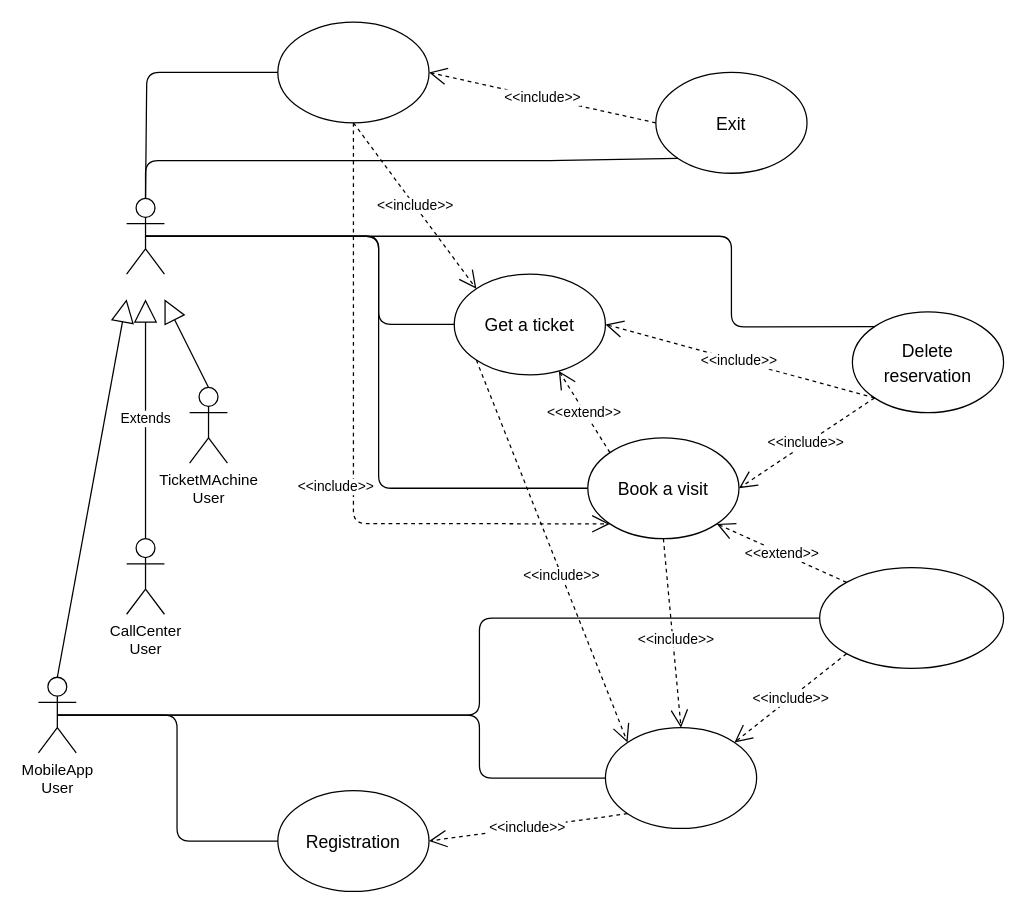
Some shapes in this 1026 by 914 pixel diagram are drawn without their labels. Here are the shapes that lost their labels. From the top down, the box of each, then its label:
(277, 21, 429, 123): Entrance
(125, 197, 164, 274): User
(818, 566, 1004, 668): Suggestion after unavailability
(604, 726, 757, 828): Login
